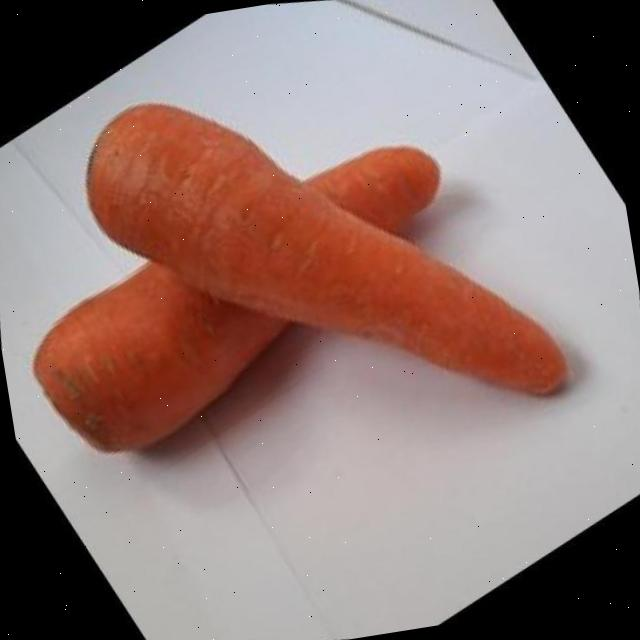carrot: (87, 105, 564, 393), (33, 148, 437, 452)
